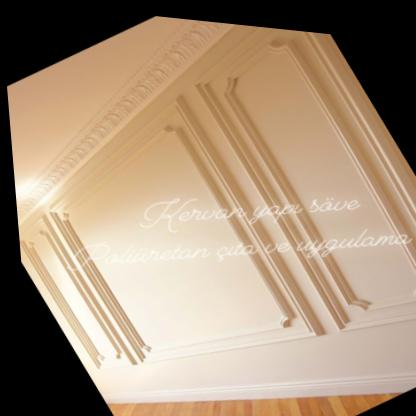Futec frame: (37, 91, 326, 370), (179, 20, 416, 342)
